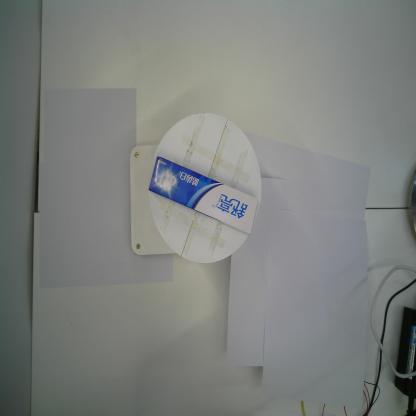Personal Hygiene: (149, 156, 258, 236)
